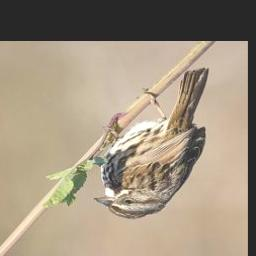Sparrow: (91, 67, 210, 222)
